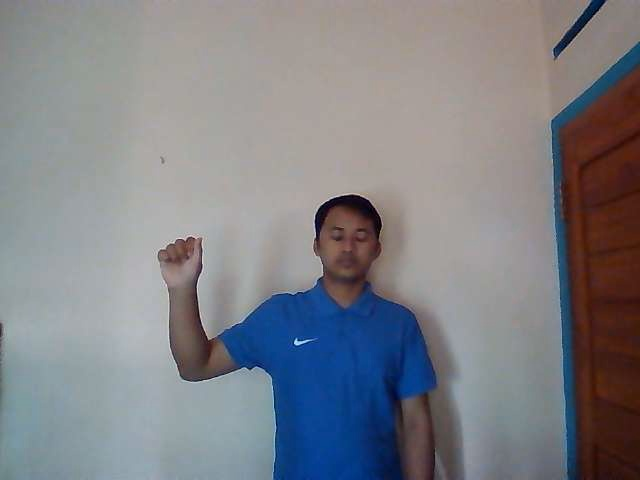A: (155, 235, 204, 287)
